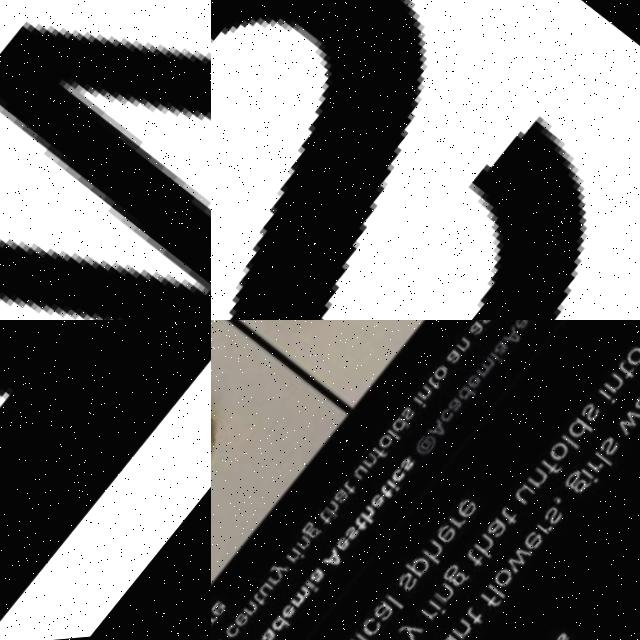A: (320, 550, 345, 577), (500, 332, 525, 359), (484, 524, 508, 550), (426, 424, 448, 449), (372, 606, 394, 630), (307, 569, 327, 590), (491, 346, 509, 366), (445, 403, 463, 422), (331, 493, 348, 511), (444, 355, 461, 373), (467, 327, 484, 345), (631, 399, 640, 426), (259, 629, 277, 640)
C: (359, 620, 382, 640), (387, 471, 407, 493), (437, 414, 454, 432), (222, 624, 240, 640)
D: (564, 425, 592, 454), (455, 390, 478, 414), (268, 617, 289, 640), (390, 422, 410, 443)
E: (520, 537, 545, 564), (454, 503, 478, 529), (434, 529, 456, 554), (464, 378, 484, 400), (278, 605, 298, 626), (333, 539, 351, 559), (368, 497, 386, 516), (512, 322, 528, 341), (232, 614, 248, 632), (211, 603, 226, 622)
F: (536, 463, 562, 490), (477, 596, 501, 621), (368, 448, 388, 468)
G: (440, 567, 471, 599), (562, 479, 592, 510), (299, 523, 322, 547)
H: (472, 538, 500, 568), (422, 545, 450, 574), (358, 509, 380, 532), (323, 502, 343, 524)
I: (596, 397, 618, 418), (579, 475, 600, 496), (426, 604, 447, 625), (303, 582, 319, 598), (383, 484, 399, 500), (487, 357, 503, 373), (288, 549, 304, 565), (413, 402, 426, 415), (353, 636, 373, 640)
L: (484, 589, 506, 610), (384, 598, 405, 618), (560, 442, 580, 461), (592, 461, 610, 479), (383, 432, 401, 450)
M: (288, 588, 311, 614), (474, 363, 496, 386)
N: (431, 587, 456, 614), (602, 380, 626, 405), (526, 474, 549, 498), (448, 622, 473, 640), (293, 538, 311, 557), (360, 456, 378, 475), (241, 602, 258, 621), (415, 390, 432, 408), (454, 344, 471, 362)
O: (545, 447, 571, 474), (490, 574, 514, 600), (622, 353, 640, 380), (375, 437, 393, 457), (431, 370, 448, 389)
P: (405, 557, 431, 585)
R: (534, 526, 554, 548), (418, 610, 437, 630), (585, 465, 604, 484), (448, 518, 466, 538), (266, 576, 280, 589), (284, 555, 298, 568), (211, 612, 218, 628)
S: (211, 0, 640, 320), (596, 446, 620, 470), (578, 410, 601, 435), (396, 576, 418, 601), (540, 515, 562, 537), (342, 530, 359, 549), (398, 411, 414, 430), (398, 462, 414, 480), (475, 320, 493, 334), (521, 320, 537, 329)
T: (612, 368, 638, 394), (496, 512, 520, 537), (462, 613, 484, 637), (463, 556, 485, 579), (350, 519, 370, 540), (376, 488, 395, 508), (249, 593, 268, 613), (316, 514, 334, 532), (339, 485, 356, 503), (424, 383, 440, 400), (484, 320, 502, 326)
U: (512, 491, 536, 517), (255, 582, 275, 603), (350, 469, 368, 487)
W: (0, 0, 211, 320), (502, 552, 530, 584), (613, 417, 640, 448)
Y: (397, 622, 424, 640), (268, 563, 288, 586)
Z: (0, 320, 211, 640)
